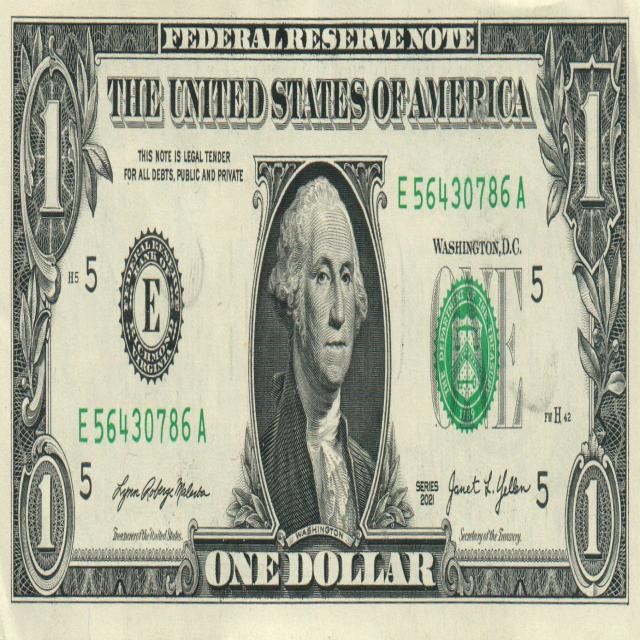SerialNumber: (79, 407, 205, 443), (399, 174, 525, 210)
